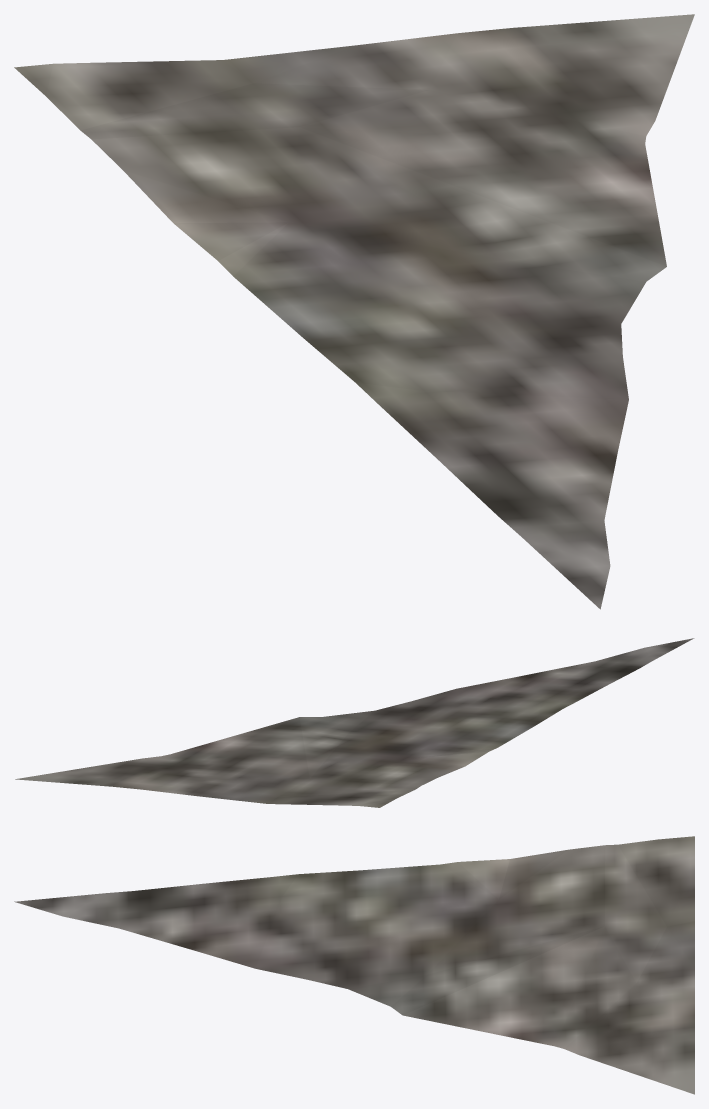
The picture shows the model from 3 angles, top to bottom: view 1: azimuth 30°, elevation 25°; view 2: azimuth 150°, elevation 25°; view 3: azimuth 270°, elevation 25°; orthographic projection. The views are drawn at different scales.
Size of the model in its own units: 0.1348 by 0.0214 by 0.2011.
Materials: 1 (1 with a texture image).
